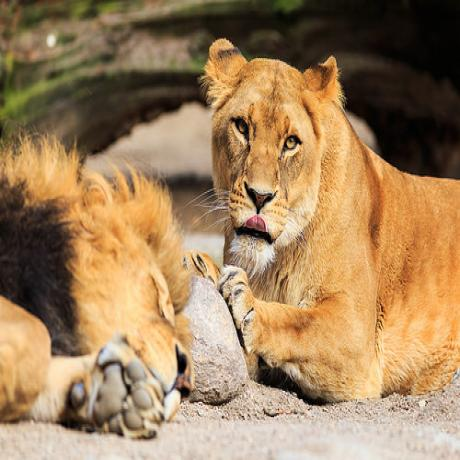Lion: (206, 31, 460, 406), (0, 134, 195, 437)
